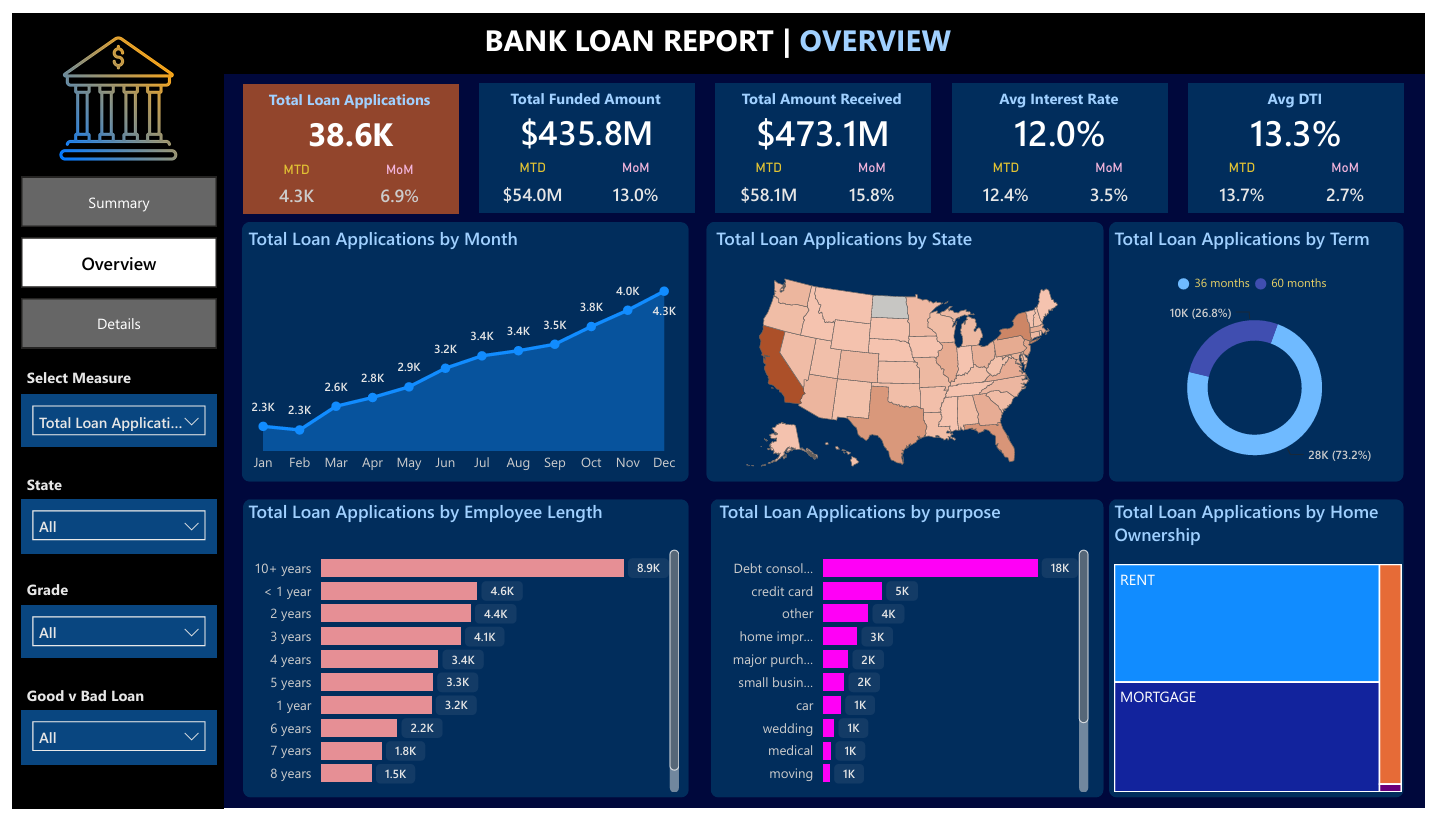

What the dashboard file says about the page in this screenshot:
{"tool":"powerbi","page":{"name":"Overview","canvas":[1280,720],"ordinal":1},"visuals":[{"type":"shape","box":[207.5,188.8,405,235],"z":0},{"type":"shape","box":[0,0,1280.3,55],"z":1000},{"type":"shape","box":[0,55,192,665.5],"z":2000},{"type":"textbox","box":[422.5,0,453.8,47.5],"z":3000},{"type":"shape","box":[422.7,62.5,195,117],"z":3000,"group":"g2"},{"type":"shape","box":[637,62.5,195,117],"z":3000,"group":"g3"},{"type":"shape","box":[851.4,62.5,195,117],"z":3000,"group":"g4"},{"type":"shape","box":[1065.8,62.5,195,117],"z":3000,"group":"g5"},{"type":"shape","box":[208.3,63.8,195,117],"z":3000,"group":"g1"},{"type":"group","id":"g1","title":"Group 1","box":[207.5,63.8,196.2,116.2],"z":4000},{"type":"cardVisual","fields":{"Data":["financial_loan.Total Funded Amount"]},"box":[421.9,76.9,196.7,56.7],"z":4000,"group":"g2"},{"type":"cardVisual","fields":{"Data":["financial_loan.Total Amount Received"]},"box":[636.2,76.9,196.7,56.7],"z":4000,"group":"g3"},{"type":"cardVisual","fields":{"Data":["financial_loan.Avg Interest Rate"]},"box":[850.6,76.9,196.7,56.7],"z":4000,"group":"g4"},{"type":"cardVisual","fields":{"Data":["financial_loan.Avg DTI"]},"box":[1065,76.9,196.7,56.7],"z":4000,"group":"g5"},{"type":"cardVisual","fields":{"Data":["financial_loan.Total Loan Applications"]},"box":[207.5,78.2,196.7,56.7],"z":4000,"group":"g1"},{"type":"group","id":"g2","title":"Group 1","box":[421.9,62.5,196.2,116.2],"z":5000},{"type":"textbox","box":[422.4,62.5,194.5,30],"z":5000,"group":"g2"},{"type":"textbox","box":[636.7,62.5,194.5,30],"z":5000,"group":"g3"},{"type":"textbox","box":[851.1,62.5,194.5,30],"z":5000,"group":"g4"},{"type":"textbox","box":[1065.5,62.5,194.5,30],"z":5000,"group":"g5"},{"type":"textbox","box":[208,63.8,194.5,30],"z":5000,"group":"g1"},{"type":"group","id":"g3","title":"Group 1","box":[636.2,62.5,196.2,116.2],"z":6000},{"type":"cardVisual","title":"MTD","fields":{"Data":["financial_loan.MTD Funded Amount"]},"box":[423.1,132.8,96.2,45],"z":6000,"group":"g2"},{"type":"cardVisual","title":"MTD","fields":{"Data":["financial_loan.MTD Total Amount Received"]},"box":[637.4,132.8,96.2,45],"z":6000,"group":"g3"},{"type":"cardVisual","title":"MTD","fields":{"Data":["financial_loan.MTD Avg Int Rate"]},"box":[851.8,132.8,96.2,45],"z":6000,"group":"g4"},{"type":"cardVisual","title":"MTD","fields":{"Data":["financial_loan.MTD Avg DTI"]},"box":[1066.2,132.8,96.2,45],"z":6000,"group":"g5"},{"type":"cardVisual","title":"MTD","fields":{"Data":["financial_loan.MTD Loan Applications"]},"box":[208.7,134.1,96.2,45],"z":6000,"group":"g1"},{"type":"group","id":"g4","title":"Group 1","box":[850.6,62.5,196.2,116.2],"z":7000},{"type":"cardVisual","title":"MoM","fields":{"Data":["financial_loan.MoM Total Funded Amount"]},"box":[521.9,132.8,86.2,45],"z":7000,"group":"g2"},{"type":"cardVisual","title":"MoM","fields":{"Data":["financial_loan.MoM Total Amount Received"]},"box":[736.2,132.8,86.2,45],"z":7000,"group":"g3"},{"type":"cardVisual","title":"MoM","fields":{"Data":["financial_loan.MoM Avg Int Rate"]},"box":[950.6,132.8,86.2,45],"z":7000,"group":"g4"},{"type":"cardVisual","title":"MoM","fields":{"Data":["financial_loan.MoM Avg DTI"]},"box":[1165,132.8,86.2,45],"z":7000,"group":"g5"},{"type":"cardVisual","title":"MoM","fields":{"Data":["financial_loan.MoM Loan Applications"]},"box":[307.5,134.1,86.2,45],"z":7000,"group":"g1"},{"type":"group","id":"g5","title":"Group 1","box":[1065,62.5,196.2,116.2],"z":8000},{"type":"slicer","fields":{"Values":["financial_loan.address_state"]},"box":[7.5,440.1,177.5,48.8],"z":9000},{"type":"textbox","box":[7.5,412.5,73.8,27.5],"z":10000},{"type":"textbox","box":[7.5,507.5,73.8,27.5],"z":11000},{"type":"slicer","fields":{"Values":["financial_loan.grade"]},"box":[7.5,535.5,177.5,48.8],"z":12000},{"type":"slicer","fields":{"Values":["financial_loan.Good v Bad Loan"]},"box":[7.5,631,177.5,48.8],"z":13000},{"type":"textbox","box":[7.5,603.8,168.8,27.5],"z":14000},{"type":"areaChart","fields":{"Y":["financial_loan.Total Loan Applications"],"Category":["Date Table.Month"]},"box":[208.8,192.5,400,231.2],"z":15000},{"type":"slicer","fields":{"Values":["Select Measure.Select Measure"]},"box":[7.5,344.6,177.5,48.8],"z":16000},{"type":"textbox","box":[7.5,316.2,133.8,28.8],"z":17000},{"type":"shape","box":[628.8,188.8,360,235],"z":18000},{"type":"shapeMap","fields":{"Value":["financial_loan.Total Loan Applications"],"Category":["financial_loan.address_state"]},"box":[632.5,192.5,347.5,231.2],"z":19000},{"type":"shape","box":[993.8,188.8,267.5,235],"z":20000},{"type":"donutChart","fields":{"Y":["financial_loan.Total Loan Applications"],"Category":["financial_loan.term"]},"box":[993.8,192.5,263.8,233.8],"z":21000},{"type":"shape","box":[208.8,440,403.8,270],"z":22000},{"type":"barChart","fields":{"Y":["financial_loan.Total Loan Applications"],"Category":["financial_loan.emp_length"]},"box":[208.8,440,400,270],"z":23000},{"type":"shape","box":[632.5,440,356.2,270],"z":24000},{"type":"barChart","fields":{"Y":["financial_loan.Total Loan Applications"],"Category":["financial_loan.purpose"]},"box":[636.2,440,343.8,270],"z":25000},{"type":"shape","box":[993.8,440,267.5,270],"z":26000},{"type":"treemap","fields":{"Values":["financial_loan.Total Loan Applications"],"Group":["financial_loan.home_ownership"]},"box":[993.8,440,270,270],"z":27000},{"type":"pageNavigator","box":[7.5,147.5,177.5,156.2],"z":28000},{"type":"image","box":[21.2,18.8,150,116.2],"z":29000}]}

Visuals, with their boxes in screenshot pixels (x1, y1, x2, y2), scaled from the page's 1280x720 canvas onto the 1436x816 screenshot:
shape: bbox=[233, 214, 687, 480]
shape: bbox=[0, 0, 1435, 62]
shape: bbox=[0, 62, 215, 815]
textbox: bbox=[474, 0, 983, 54]
shape: bbox=[474, 71, 693, 203]
shape: bbox=[715, 71, 933, 203]
shape: bbox=[955, 71, 1174, 203]
shape: bbox=[1196, 71, 1414, 203]
shape: bbox=[234, 72, 452, 205]
"Group 1" group: bbox=[233, 72, 453, 204]
cardVisual - financial_loan.Total Funded Amount: bbox=[473, 87, 694, 151]
cardVisual - financial_loan.Total Amount Received: bbox=[714, 87, 934, 151]
cardVisual - financial_loan.Avg Interest Rate: bbox=[954, 87, 1175, 151]
cardVisual - financial_loan.Avg DTI: bbox=[1195, 87, 1415, 151]
cardVisual - financial_loan.Total Loan Applications: bbox=[233, 89, 453, 153]
"Group 1" group: bbox=[473, 71, 693, 203]
textbox: bbox=[474, 71, 692, 105]
textbox: bbox=[714, 71, 933, 105]
textbox: bbox=[955, 71, 1173, 105]
textbox: bbox=[1195, 71, 1414, 105]
textbox: bbox=[233, 72, 452, 106]
"Group 1" group: bbox=[714, 71, 934, 203]
"MTD" cardVisual: bbox=[475, 151, 583, 202]
"MTD" cardVisual: bbox=[715, 151, 823, 202]
"MTD" cardVisual: bbox=[956, 151, 1064, 202]
"MTD" cardVisual: bbox=[1196, 151, 1304, 202]
"MTD" cardVisual: bbox=[234, 152, 342, 203]
"Group 1" group: bbox=[954, 71, 1174, 203]
"MoM" cardVisual: bbox=[586, 151, 682, 202]
"MoM" cardVisual: bbox=[826, 151, 923, 202]
"MoM" cardVisual: bbox=[1066, 151, 1163, 202]
"MoM" cardVisual: bbox=[1307, 151, 1404, 202]
"MoM" cardVisual: bbox=[345, 152, 442, 203]
"Group 1" group: bbox=[1195, 71, 1415, 203]
slicer - financial_loan.address_state: bbox=[8, 499, 208, 554]
textbox: bbox=[8, 468, 91, 499]
textbox: bbox=[8, 575, 91, 606]
slicer - financial_loan.grade: bbox=[8, 607, 208, 662]
slicer - financial_loan.Good v Bad Loan: bbox=[8, 715, 208, 770]
textbox: bbox=[8, 684, 198, 715]
areaChart - financial_loan.Total Loan Applications x Date Table.Month: bbox=[234, 218, 683, 480]
slicer - Select Measure.Select Measure: bbox=[8, 391, 208, 446]
textbox: bbox=[8, 358, 159, 391]
shape: bbox=[705, 214, 1109, 480]
shapeMap - financial_loan.Total Loan Applications x financial_loan.address_state: bbox=[710, 218, 1099, 480]
shape: bbox=[1115, 214, 1415, 480]
donutChart - financial_loan.Total Loan Applications x financial_loan.term: bbox=[1115, 218, 1411, 483]
shape: bbox=[234, 499, 687, 805]
barChart - financial_loan.Total Loan Applications x financial_loan.emp_length: bbox=[234, 499, 683, 805]
shape: bbox=[710, 499, 1109, 805]
barChart - financial_loan.Total Loan Applications x financial_loan.purpose: bbox=[714, 499, 1099, 805]
shape: bbox=[1115, 499, 1415, 805]
treemap - financial_loan.Total Loan Applications x financial_loan.home_ownership: bbox=[1115, 499, 1418, 805]
pageNavigator: bbox=[8, 167, 208, 344]
image: bbox=[24, 21, 192, 153]
